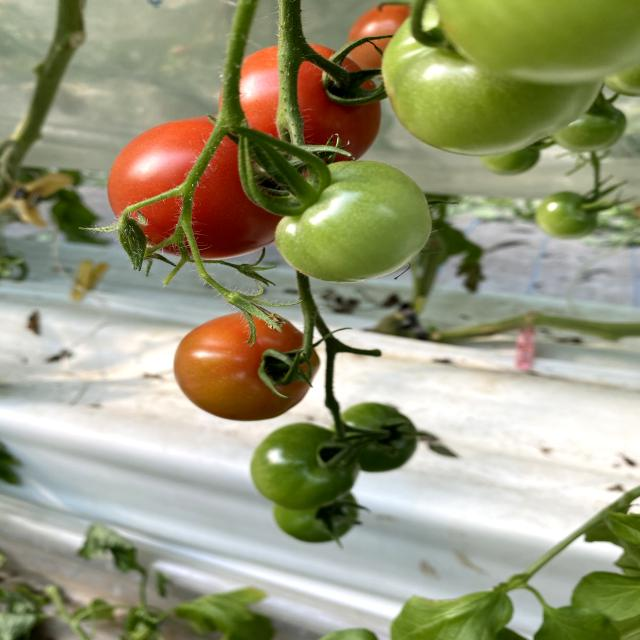ripe0: (276, 162, 433, 282), (252, 424, 358, 508)
ripe2: (109, 116, 279, 263), (172, 309, 320, 421)
